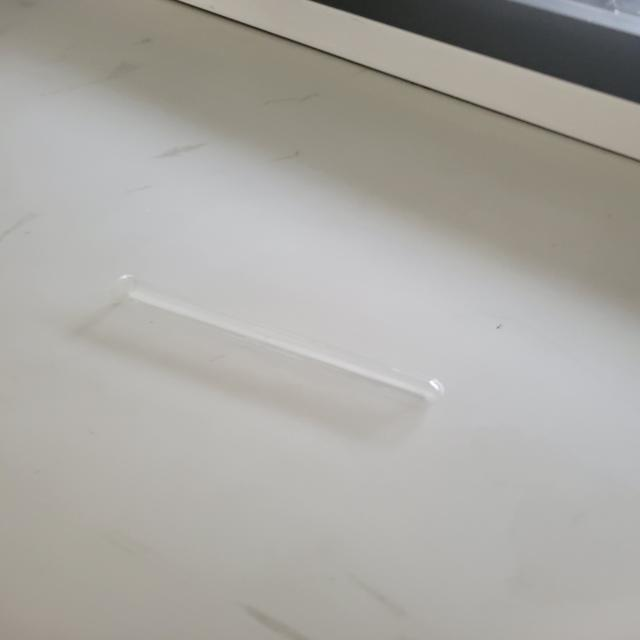Test_Tube: (89, 219, 487, 456)
